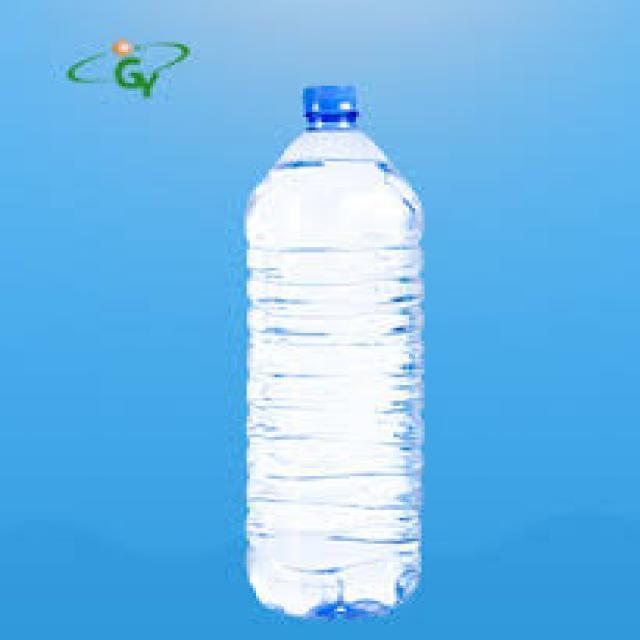Plastic: (248, 78, 422, 618)
